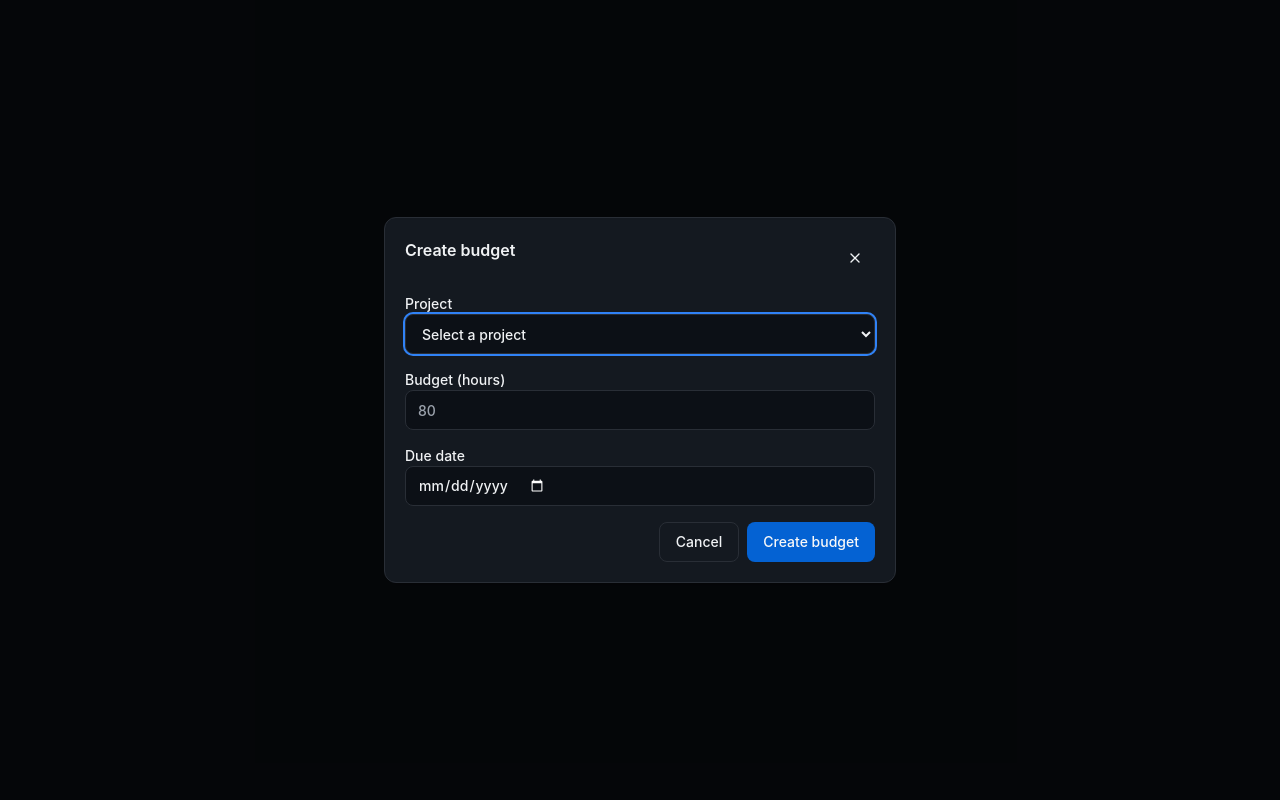
Test case: BudgetDialog – create › shows "Project is required" when no project selected
Step 1. Click the button "Create budget" → click(811, 542), box [747, 522, 875, 562]
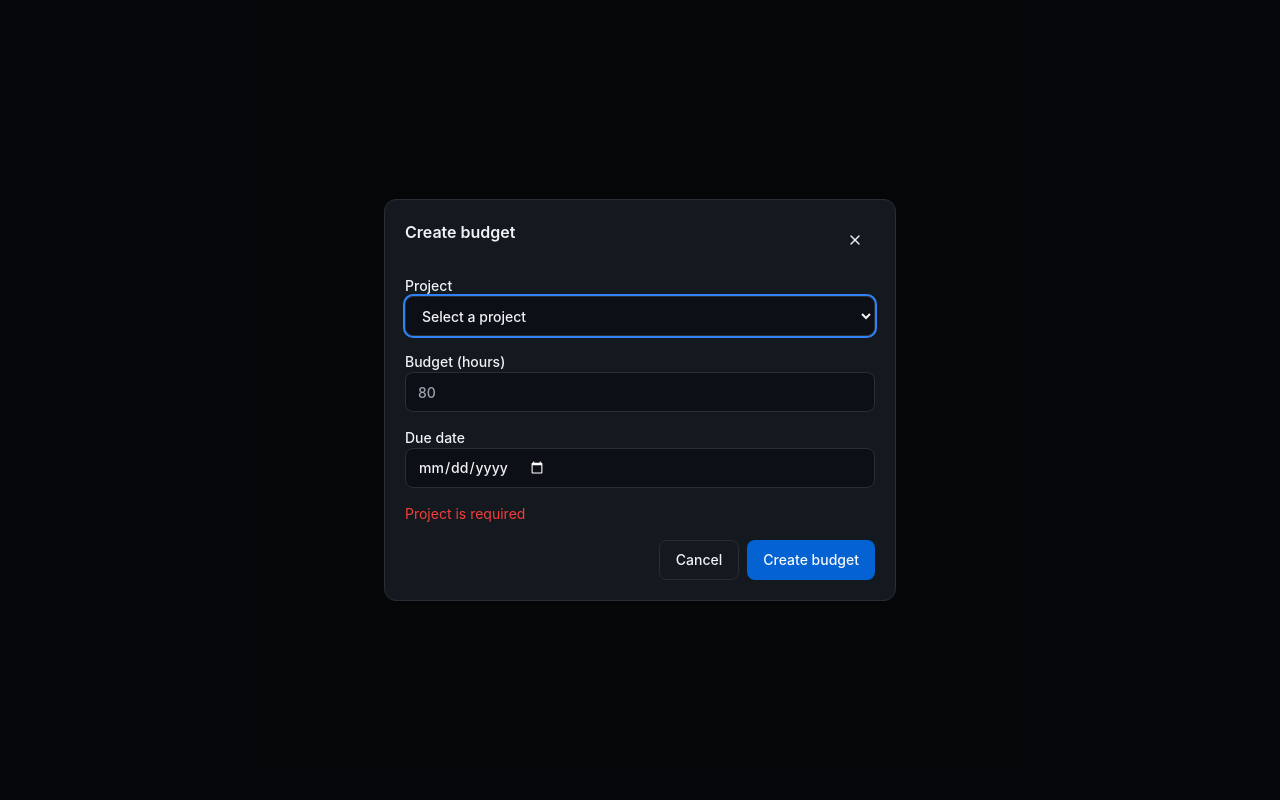
Expected: the text "Project is required" is shown, [405, 505, 525, 522]
